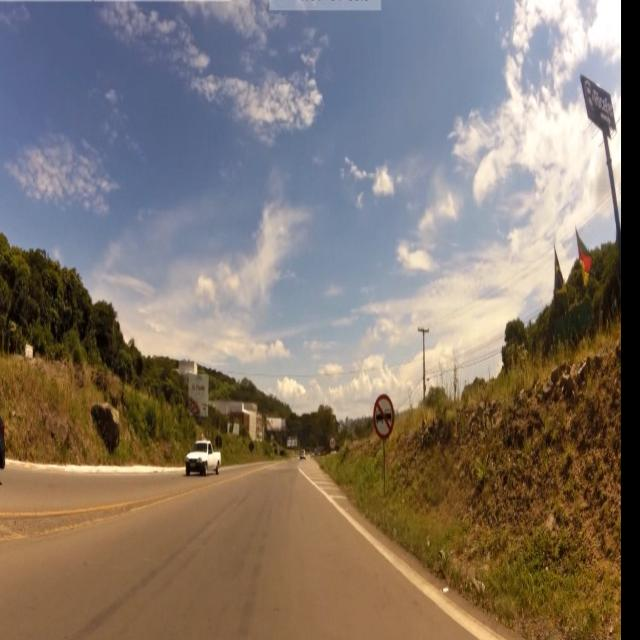R-7: (374, 394, 396, 442)
